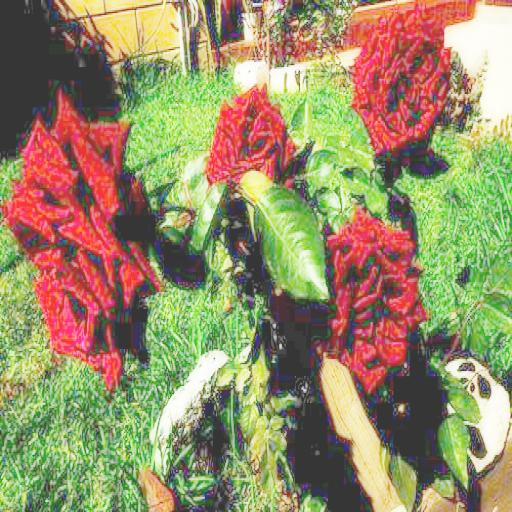rose: (32, 225, 160, 373), (328, 213, 424, 390), (8, 97, 134, 225), (205, 84, 297, 188)
